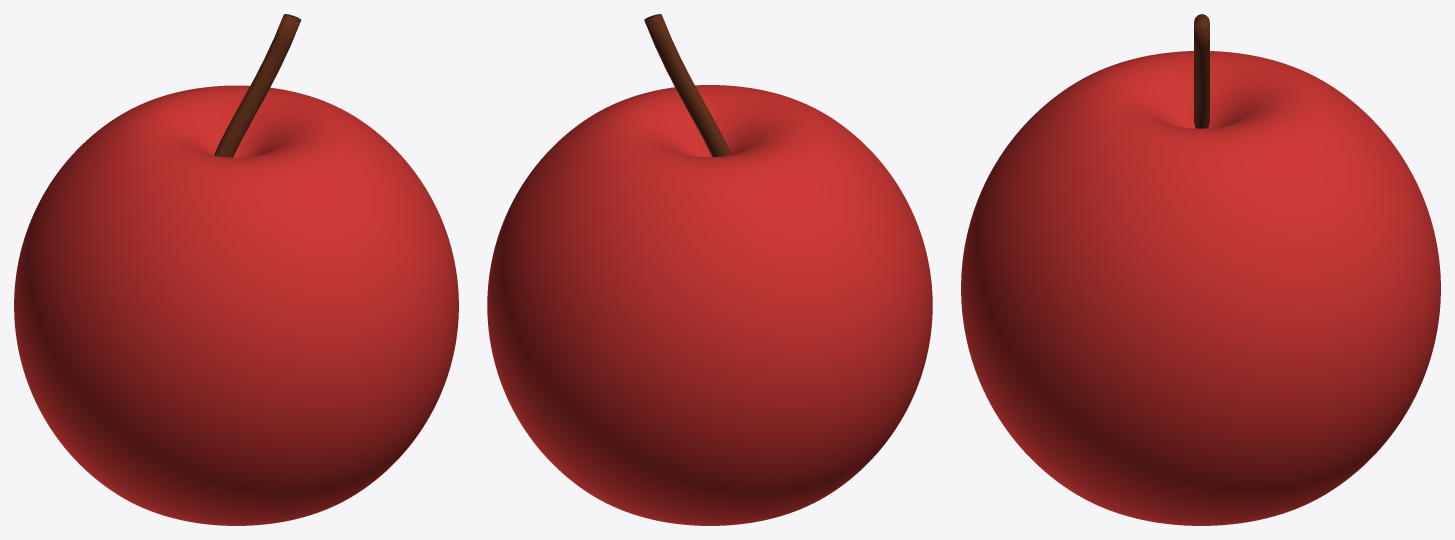
The model's file is apple.fbx.
3 renders of one model, left to right at view 1: azimuth 30°, elevation 25°; view 2: azimuth 150°, elevation 25°; view 3: azimuth 270°, elevation 25°, orthographic. The views are drawn at different scales.
Parts seen in each view (by area): view 1: Sphere; view 2: Sphere; view 3: Sphere.
Part boxes in pixels (bbox=[...]): Sphere: bbox=[14, 14, 458, 525]; Sphere: bbox=[487, 14, 932, 525]; Sphere: bbox=[961, 14, 1440, 525].
Bounding box in the file's own units: 22.5 × 25.44 × 22.5.
